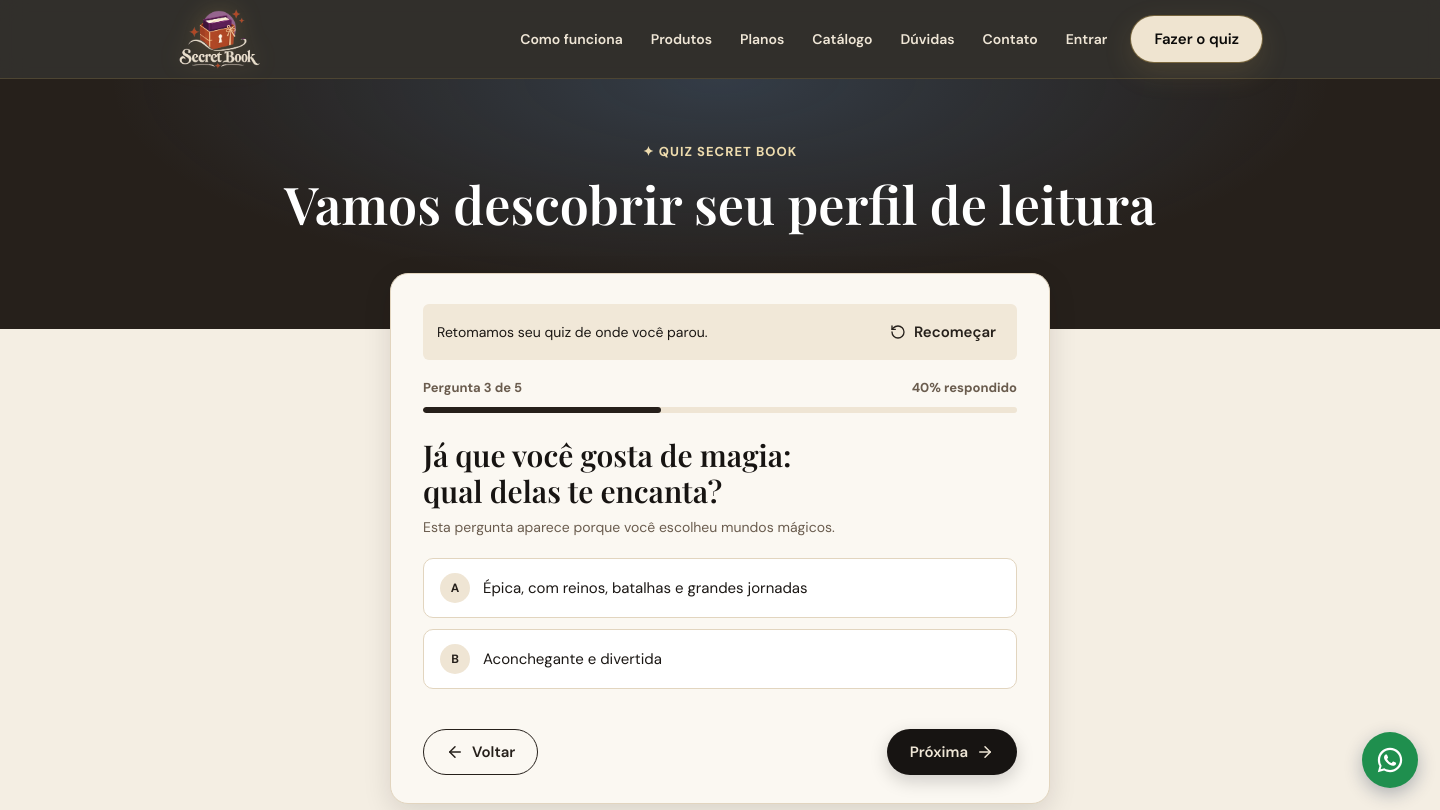
Test: Quiz v2 › retoma o progresso salvo e permite recomeçar
Expected: the text "Retomamos seu quiz de onde você parou." is shown, [437,322,708,343]
Expected: the text "Pergunta 3 de 5" is shown, [423,378,522,398]
Step 1. Click the button "Voltar" → (481, 752), box [423,729,538,775]
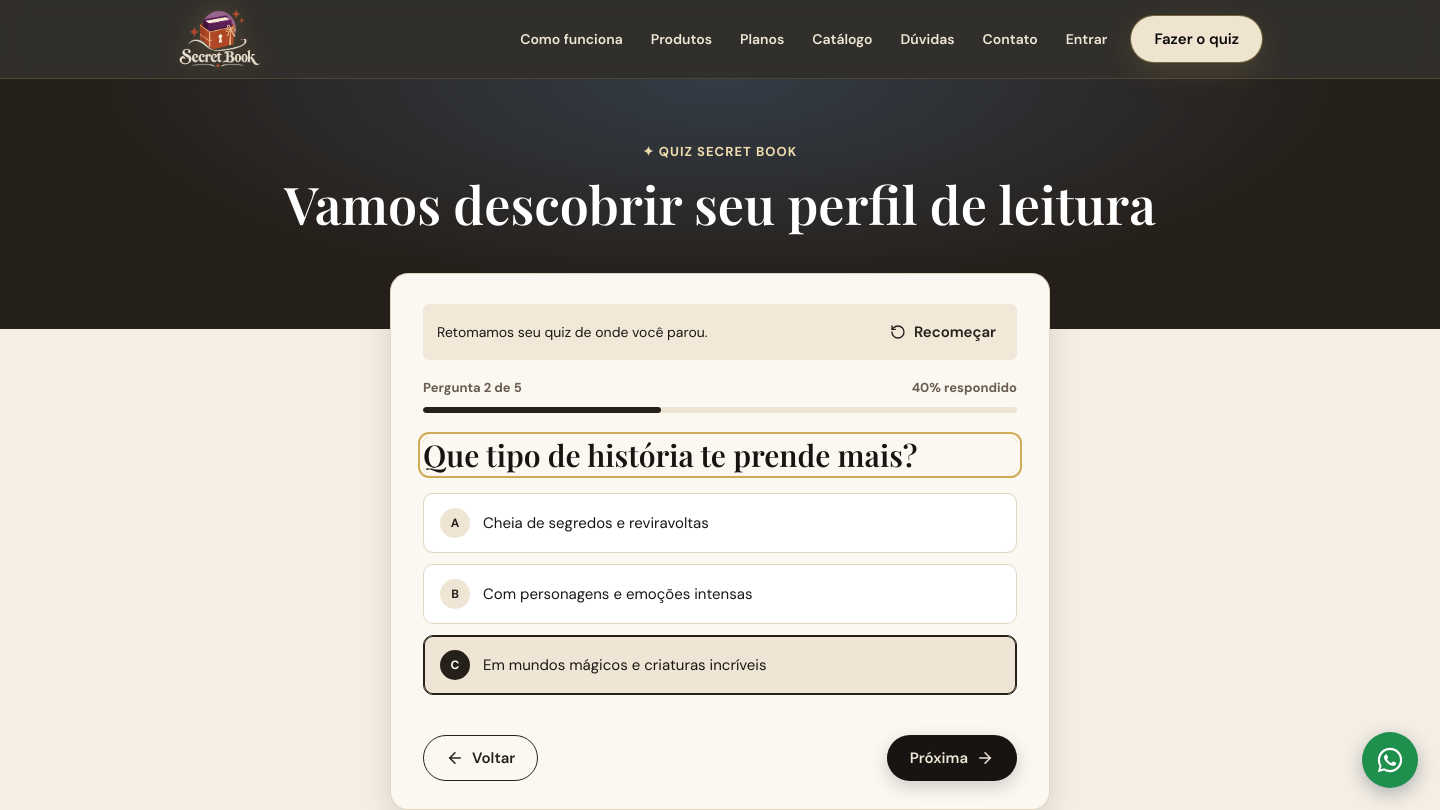
Now the radio button labelled "C Em mundos mágicos e criaturas incríveis" is checked, box [423,635,1017,695]
Step 2. Click the button "Recomeçar" → (943, 332), box [877,312,1009,352]
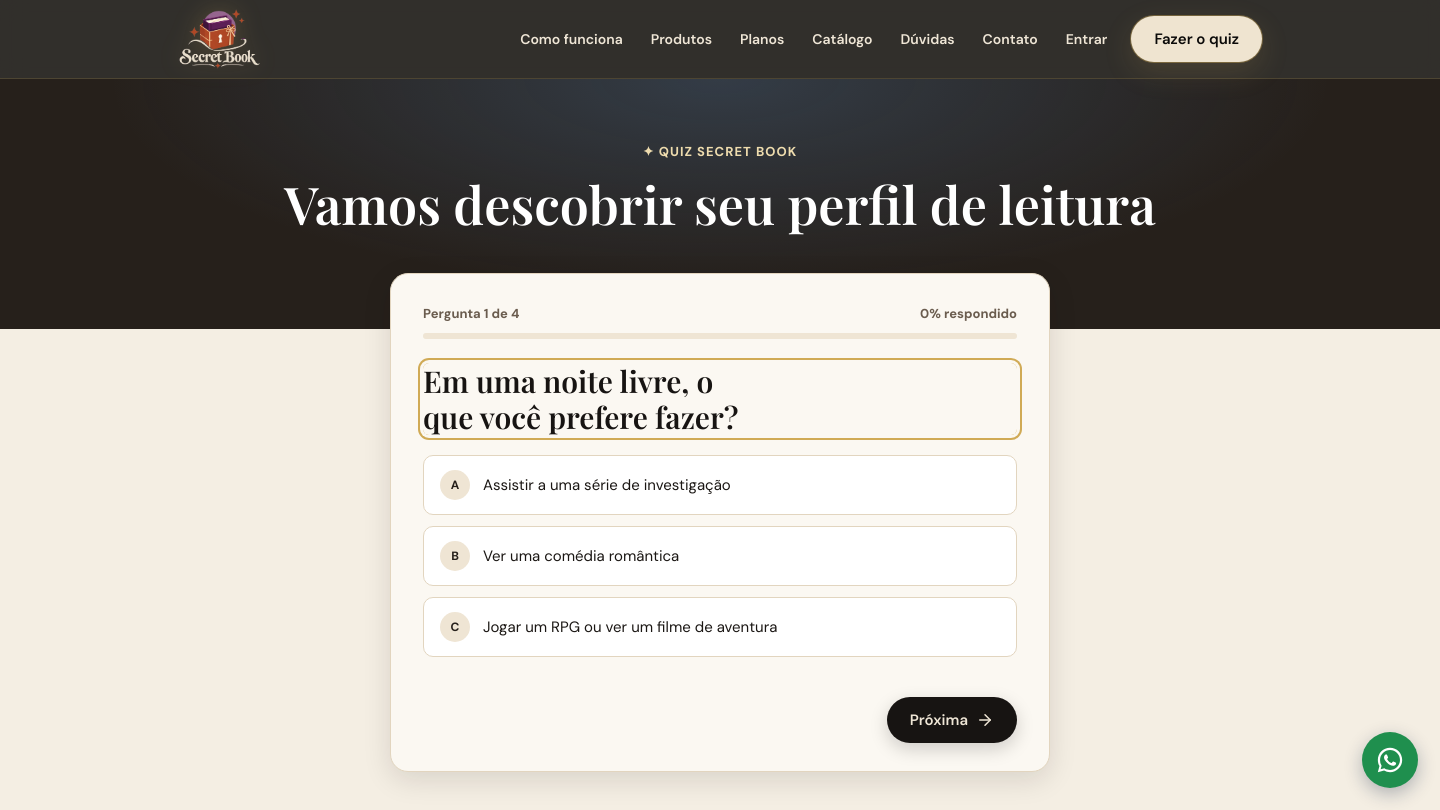
Now the text "Retomamos seu quiz de onde você parou." is gone
Now the text "Pergunta 1 de 4" is shown, box [423,304,519,324]
Now the radio button labelled "C Jogar um RPG ou ver um filme de aventura" is not checked, box [423,597,1017,657]
